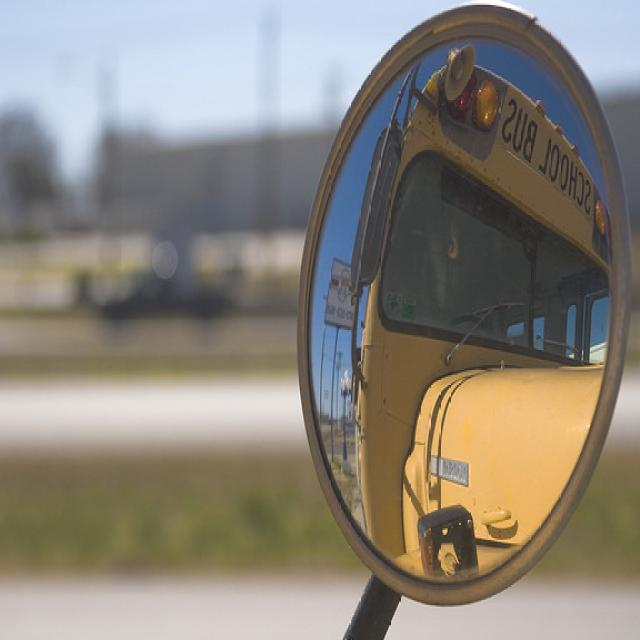Vehicle: (352, 47, 612, 585), (103, 276, 234, 322)
